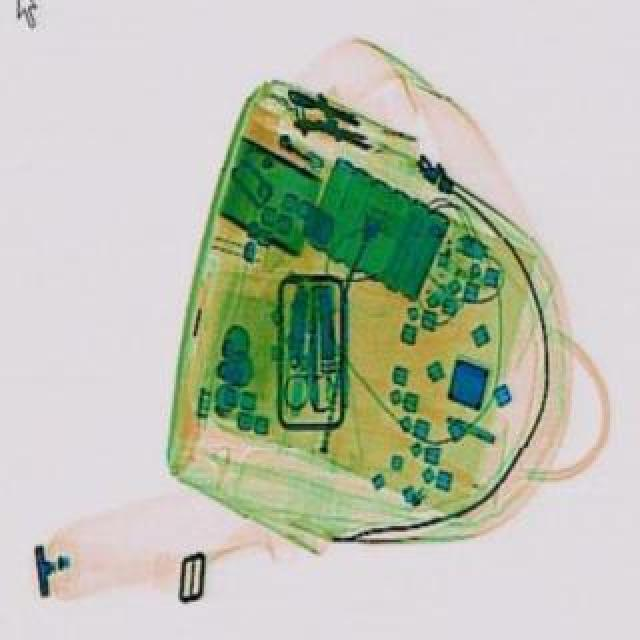pliers: (280, 306, 340, 408)
